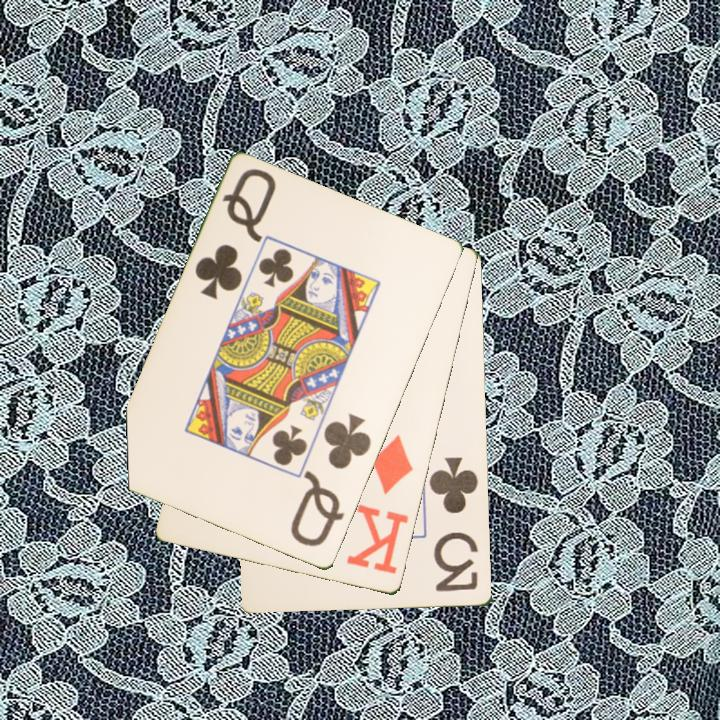3c: (426, 453, 482, 595)
Kd: (343, 432, 417, 578)
Qc: (287, 410, 375, 551), (191, 165, 280, 303)
